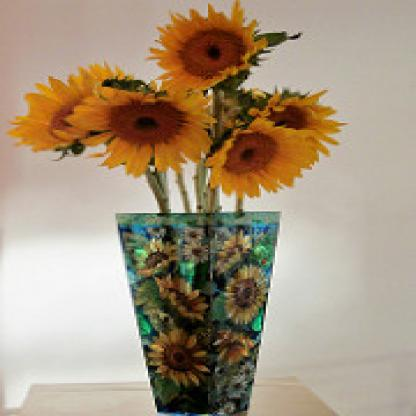SUN FLOWER: (10, 6, 394, 211)
